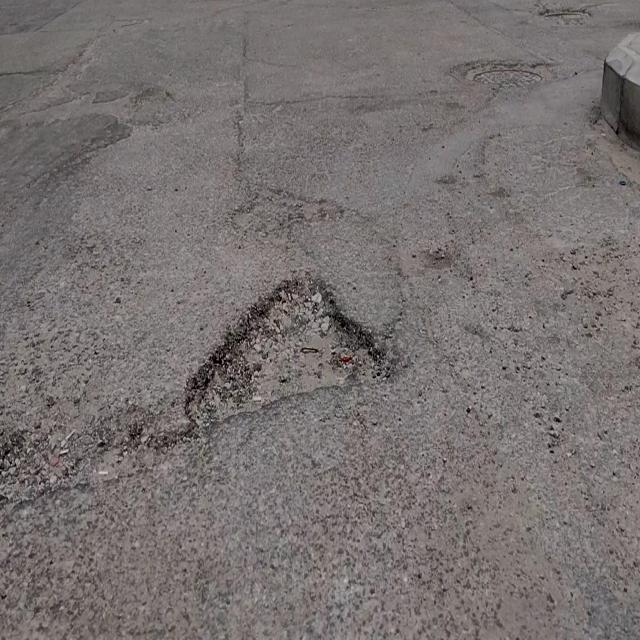Potholes: (181, 273, 391, 437)
